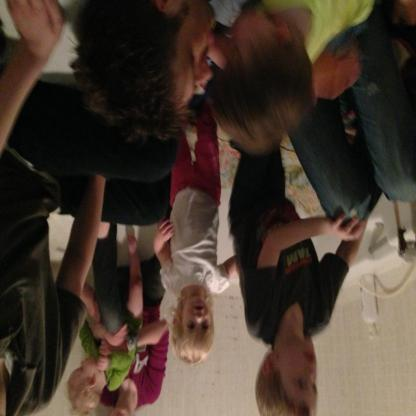face: (180, 16, 218, 105), (282, 337, 320, 412), (184, 298, 215, 348), (68, 358, 93, 383)
